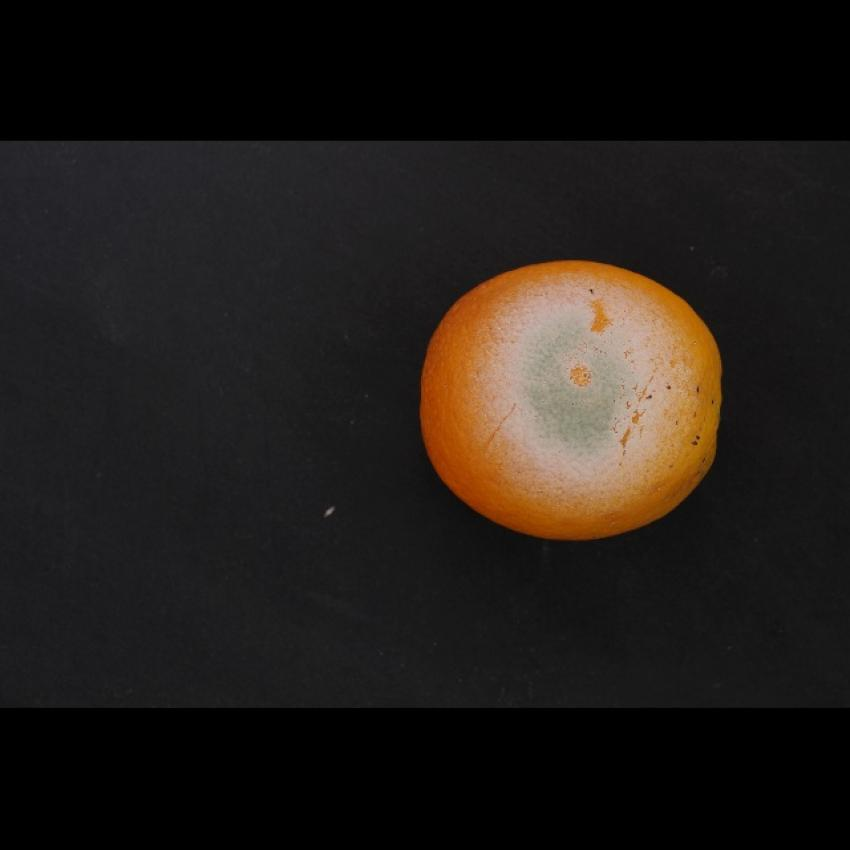Mal estado: (411, 244, 734, 549)
